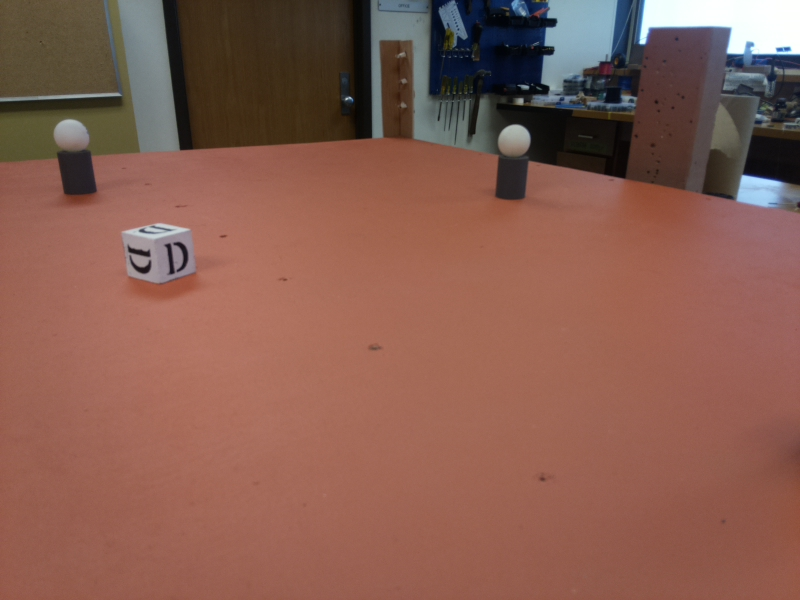blockD: (118, 220, 199, 294)
corner: (377, 42, 418, 140)
obstacle: (490, 120, 533, 205), (57, 116, 93, 201)
